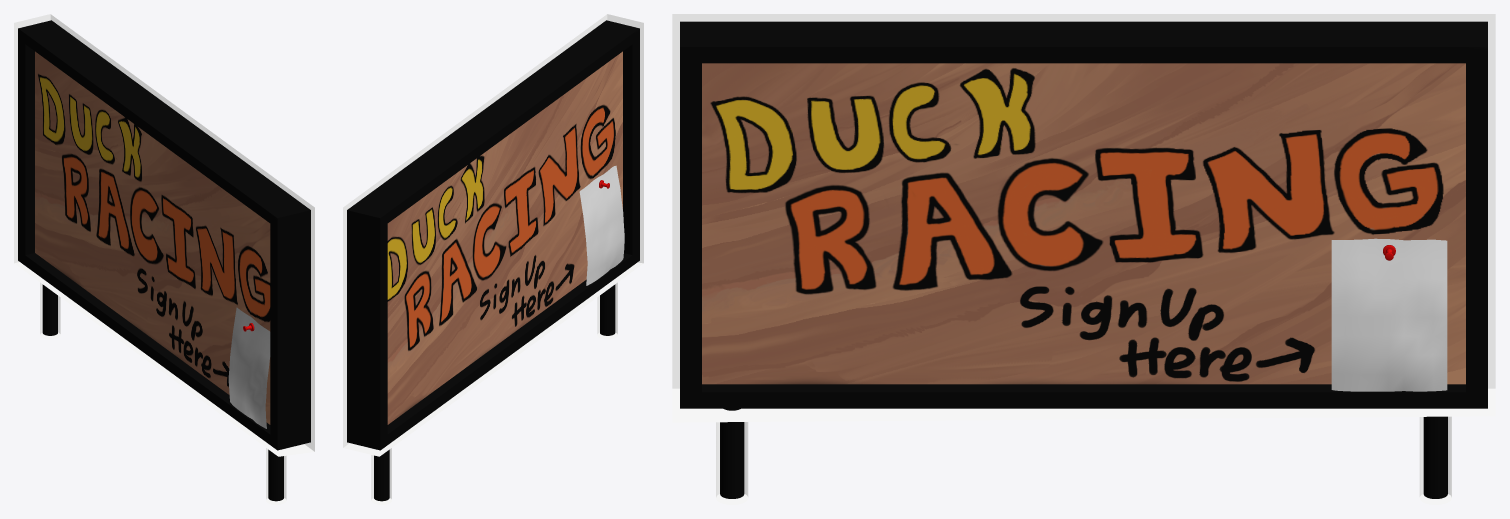
Rendered from DuckBoard.glb.
3 renders of one model, left to right at view 1: azimuth 30°, elevation 25°; view 2: azimuth 150°, elevation 25°; view 3: azimuth 270°, elevation 25°, orthographic. The views are drawn at different scales.
Parts seen in each view (by area): view 1: Cylinder.001, Cube, Plane, Cylinder.003, Cylinder.002; view 2: Cylinder.001, Cube, Plane, Cylinder.002, Cylinder.003; view 3: Cylinder.001, Cube, Plane.001, Cylinder.002, Cylinder.003.
Part boxes in pixels (x1,y1,x2,y2): Cylinder.001: (18, 20, 310, 450); Cube: (14, 14, 314, 504); Plane: (228, 307, 270, 428); Cylinder.003: (268, 449, 283, 501); Cylinder.002: (42, 284, 57, 335); Cylinder.001: (347, 20, 639, 450); Cube: (343, 14, 643, 504); Plane: (579, 165, 624, 285); Cylinder.002: (374, 449, 389, 501); Cylinder.003: (600, 284, 615, 335); Cylinder.001: (680, 21, 1487, 408); Cube: (672, 14, 1495, 504); Plane.001: (1331, 238, 1447, 391); Cylinder.002: (1423, 416, 1447, 498); Cylinder.003: (720, 408, 744, 498).
Size of the model in its own units: 0.9998 by 7.85 by 12.44.
7 materials, 2 textured.
